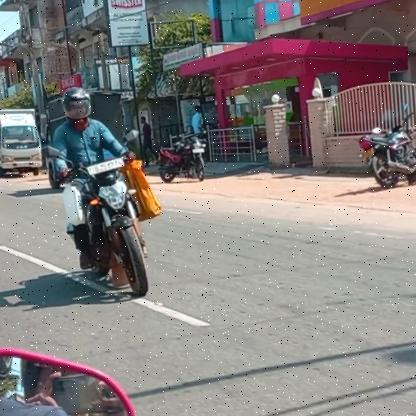motorcycle: (50, 149, 178, 321)
